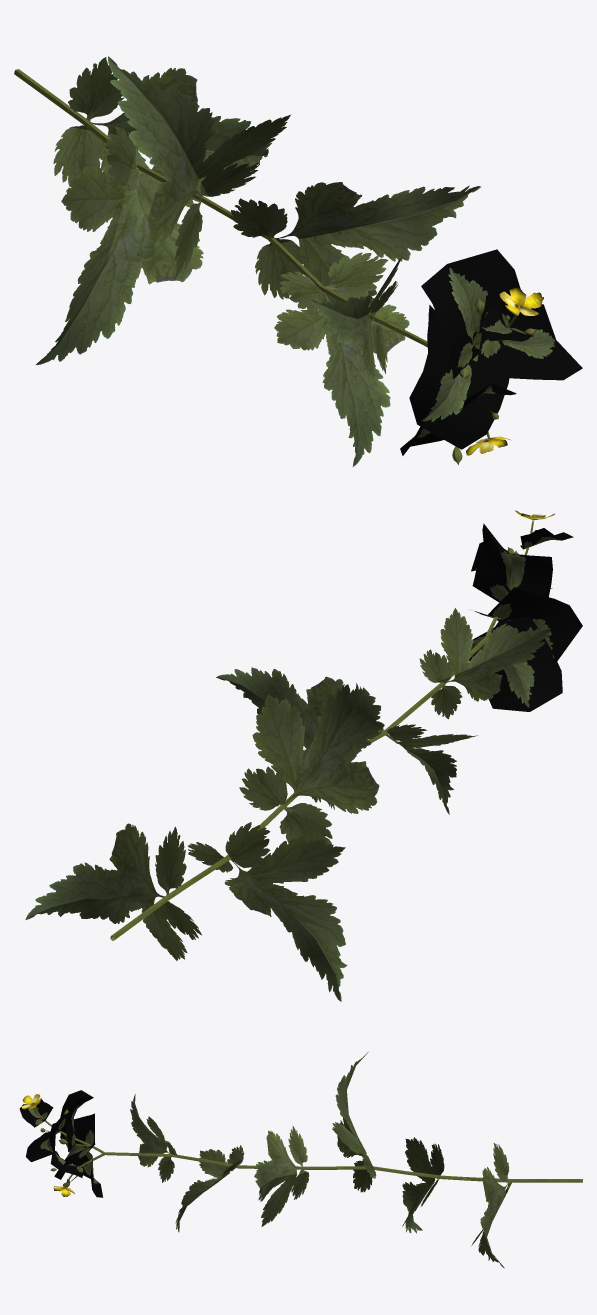
3 views of the same model, one above another, from view 1: azimuth 30°, elevation 25°; view 2: azimuth 150°, elevation 25°; view 3: azimuth 270°, elevation 25° (orthographic). The views are drawn at different scales.
Visible parts, largest first — view 1: GC27_v3; view 2: GC27_v3; view 3: GC27_v3.
Part boxes in pixels (x1,y1,x2,y2): GC27_v3: (14,56,582,466); GC27_v3: (25,510,582,1001); GC27_v3: (19,1052,582,1268).
Bounding box in the file's own units: 0.5257 × 0.5511 × 1.22.
Materials: 4 (4 with a texture image).
